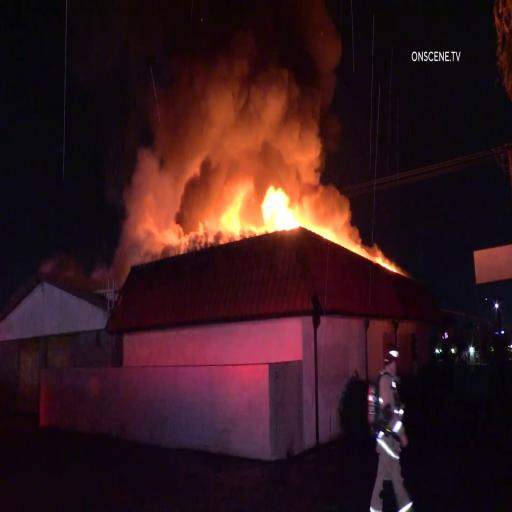fire: (222, 177, 294, 236)
smoke: (165, 29, 318, 164)
